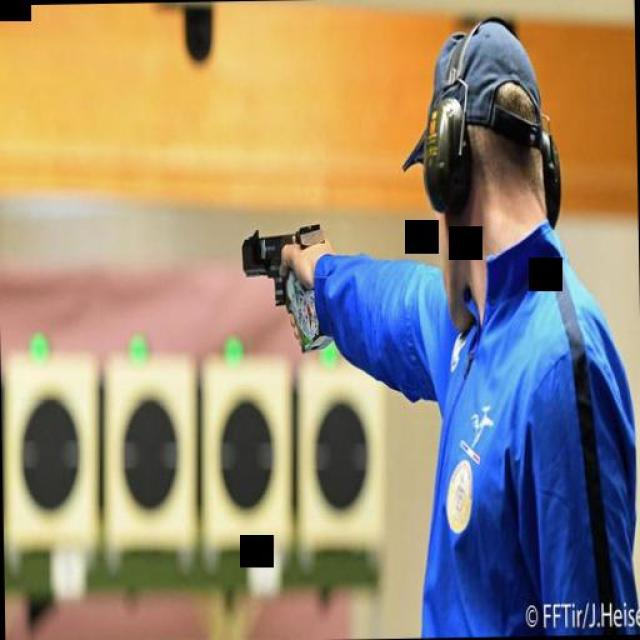gun: (239, 217, 331, 355)
